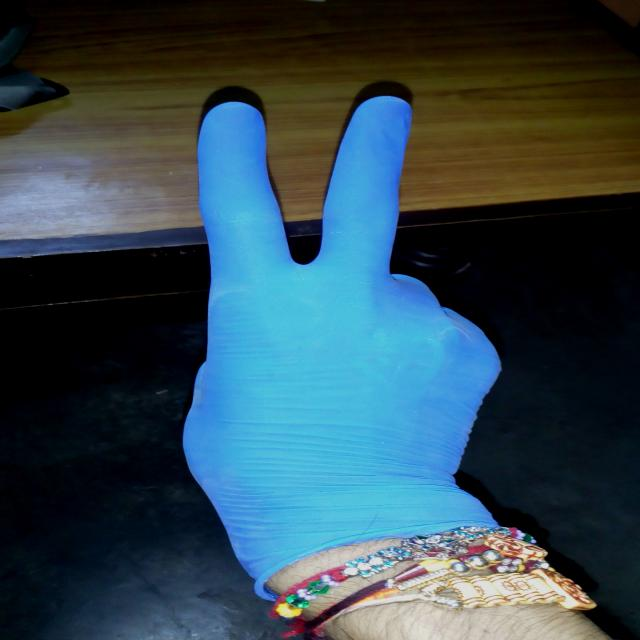glove: (164, 90, 537, 614)
